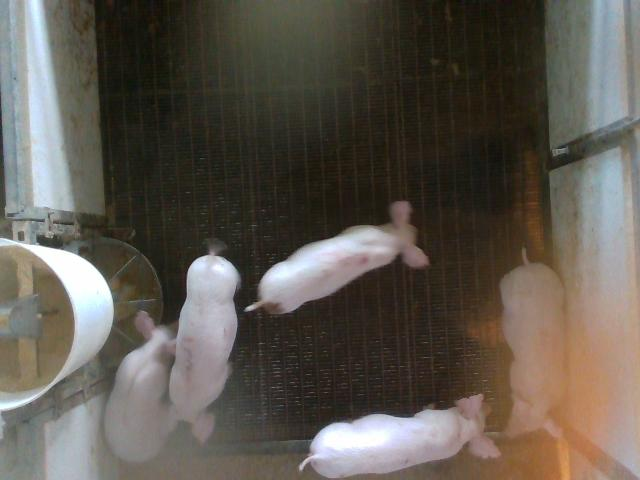pig-3: (169, 239, 241, 441)
pig-5: (245, 202, 429, 314)
